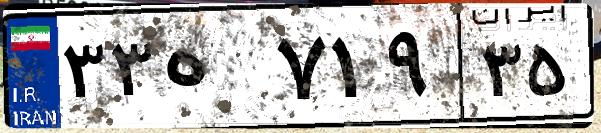1: (330, 28, 385, 110)
3: (57, 26, 110, 100), (475, 38, 525, 113), (110, 28, 158, 98)
5: (525, 38, 570, 115)
7: (270, 28, 330, 110)
9: (385, 28, 445, 110)
ه: (158, 20, 270, 120)
